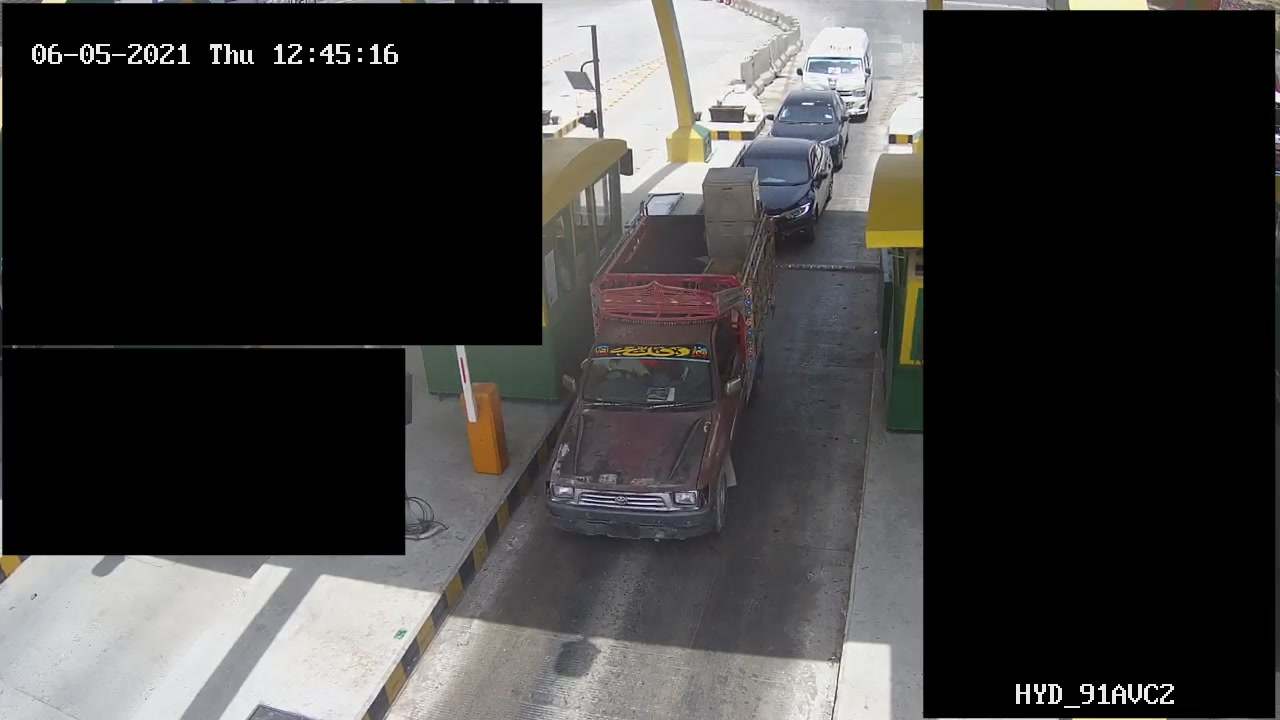F1: (554, 196, 802, 550)
